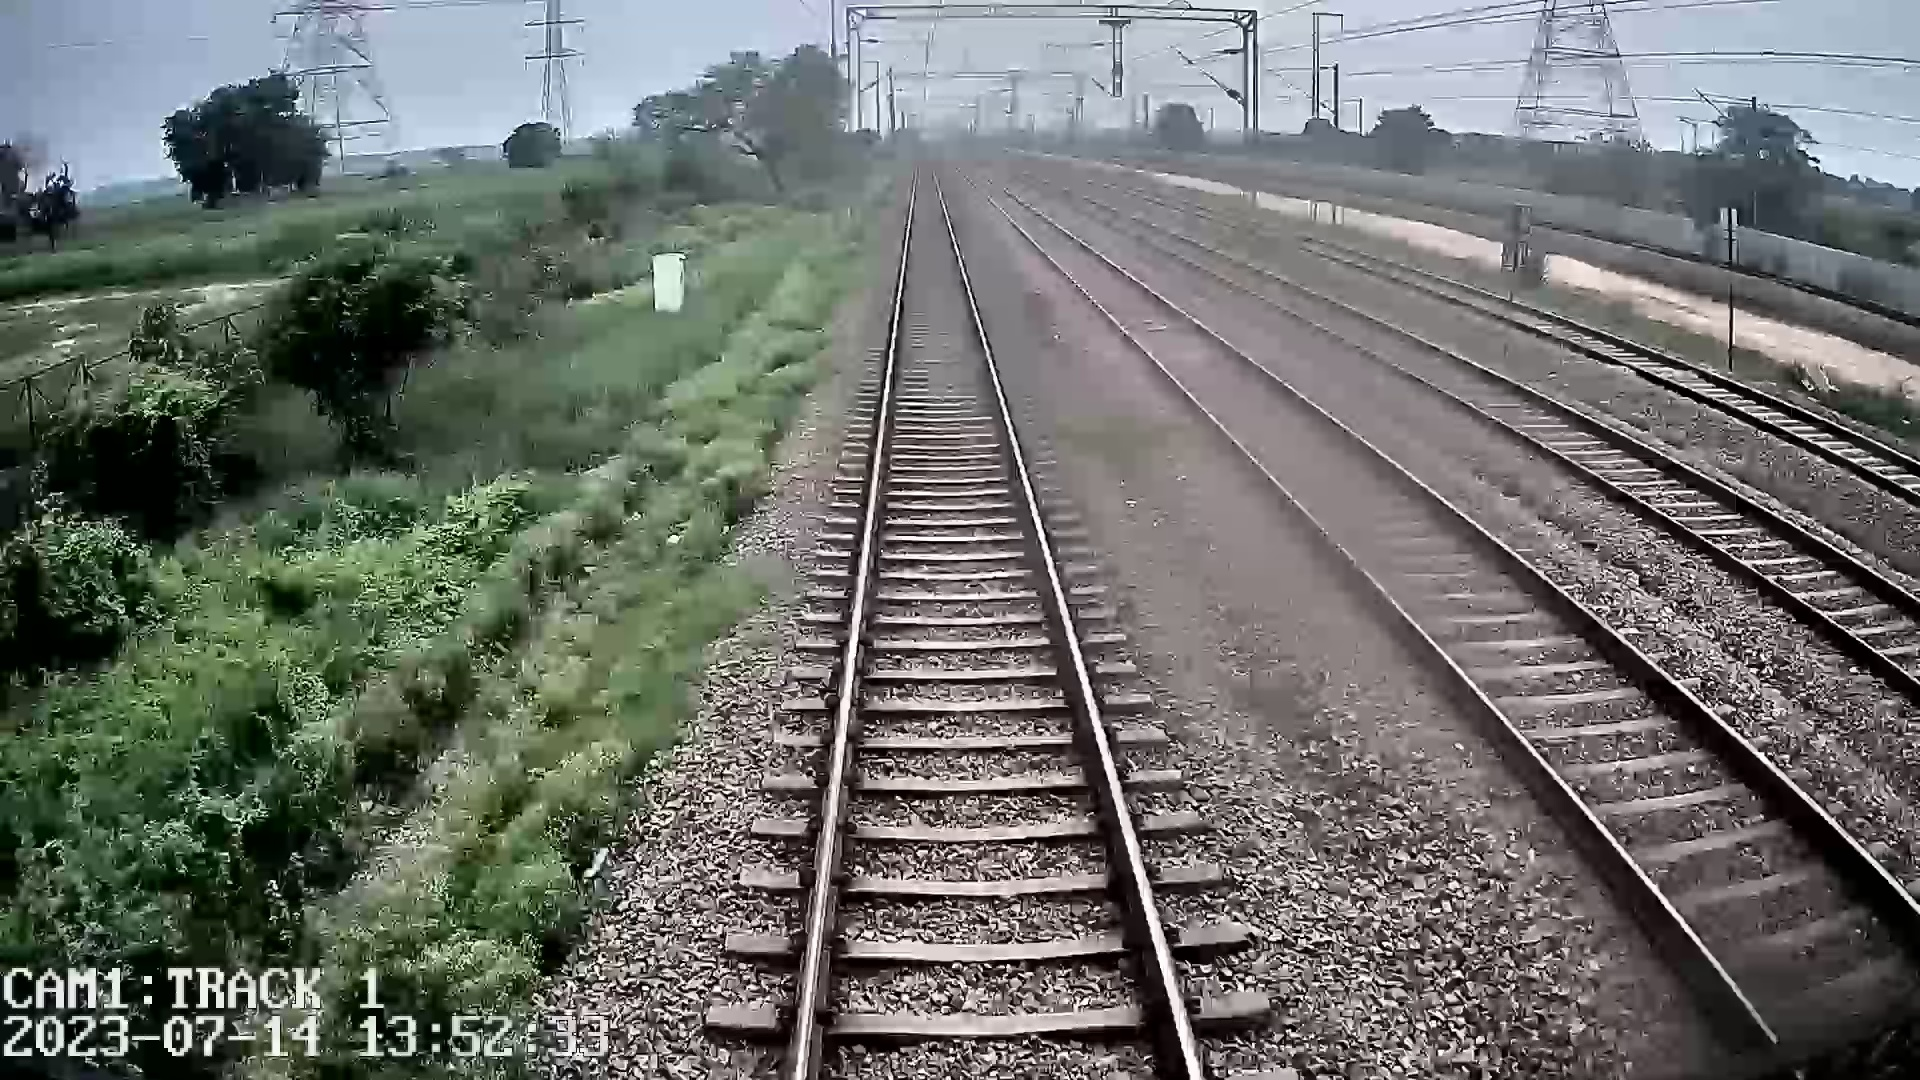track1: (799, 178, 1192, 1060)
track2: (981, 189, 1908, 1013)
track3: (1100, 207, 1916, 676)
track4: (1299, 240, 1919, 496)
